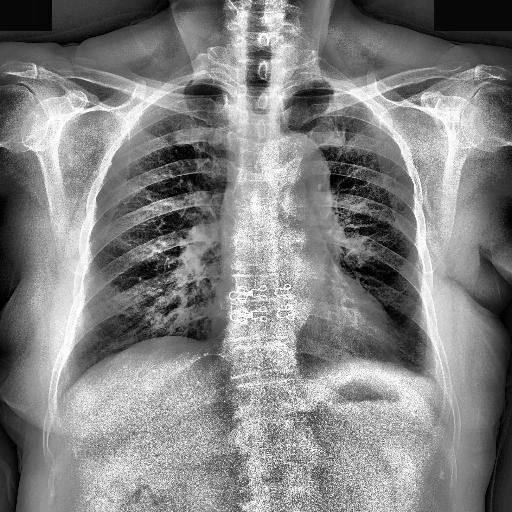0- Aortic enlargement: (270, 131, 331, 203), (267, 132, 329, 200), (275, 138, 333, 210)
10- Pleural effusion: (409, 352, 441, 404), (420, 368, 448, 398), (420, 362, 445, 394)
11- Pleural thickening: (409, 352, 441, 404), (420, 368, 448, 398), (420, 362, 445, 394)
